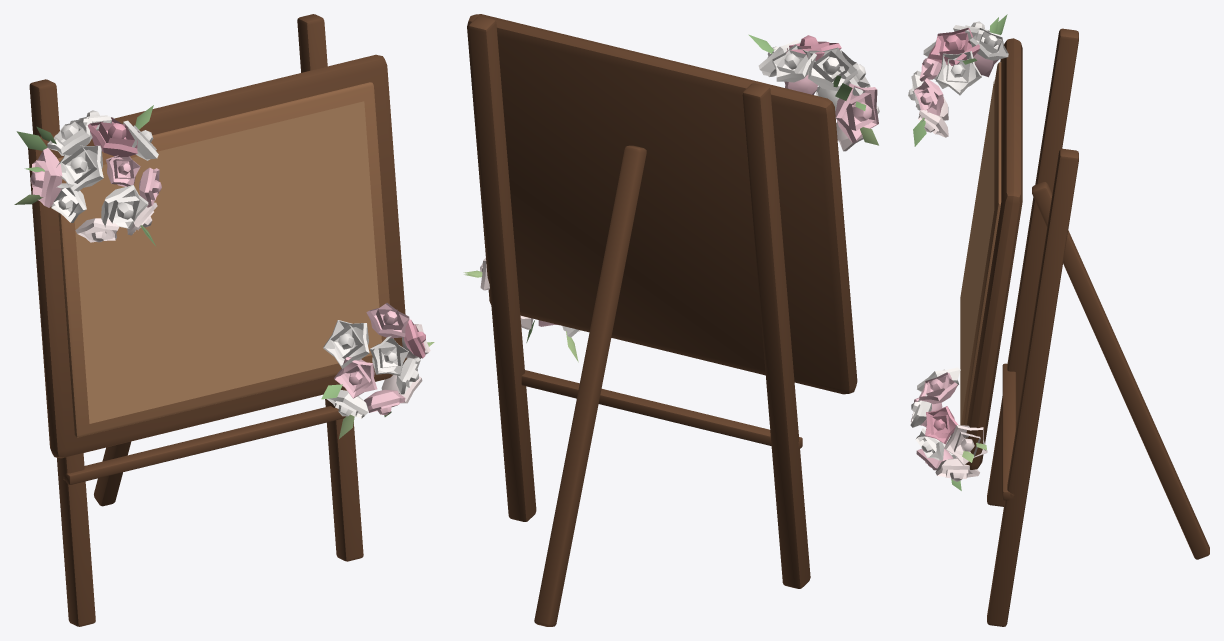
The model's file is welcome-sign.glb.
The picture shows the model from 3 angles, left to right: view 1: azimuth 30°, elevation 25°; view 2: azimuth 150°, elevation 25°; view 3: azimuth 270°, elevation 25°; orthographic projection. The views are drawn at different scales.
Visible parts, largest first — view 1: welcome-sign, content_area; view 2: welcome-sign; view 3: welcome-sign, content_area.
Part boxes in pixels (box(x1,y1,x2,y2)): welcome-sign: box(14, 14, 434, 626); content_area: box(74, 101, 381, 423); welcome-sign: box(463, 14, 879, 626); welcome-sign: box(908, 14, 1209, 626); content_area: box(960, 80, 994, 424).
Bounding box in the file's own units: 1.3 × 1.54 × 0.8927.
